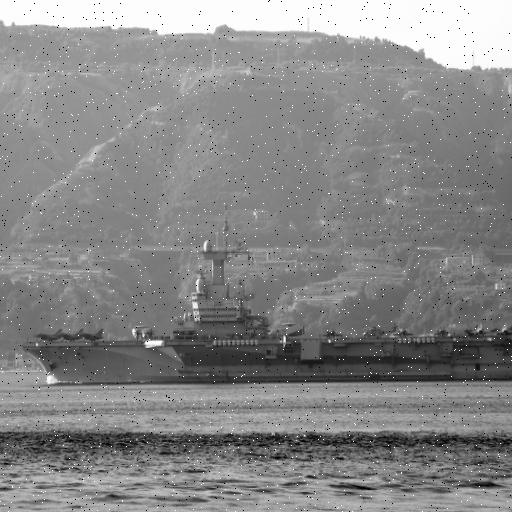Portanaves: (20, 200, 512, 390)
